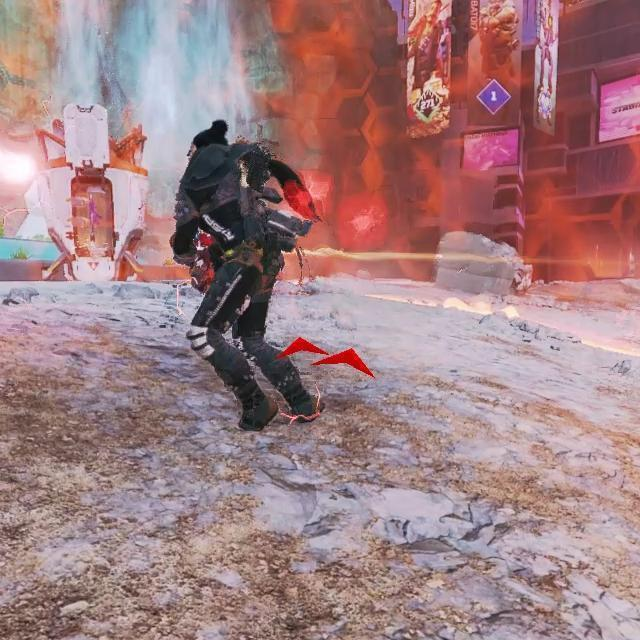avatar: (169, 117, 326, 435)
